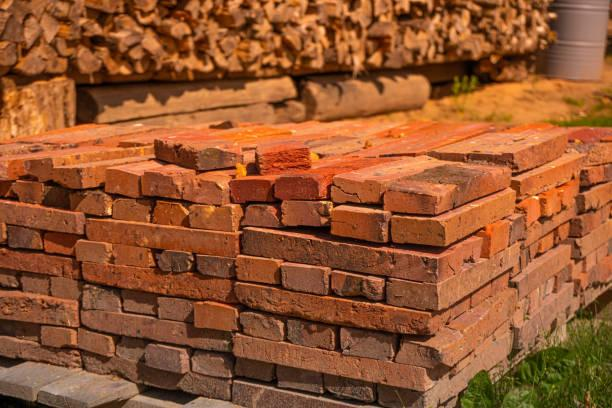Bricks: (232, 278, 468, 340), (239, 228, 484, 281), (236, 333, 428, 391), (401, 285, 522, 367), (387, 242, 512, 307), (385, 186, 519, 246), (75, 307, 227, 354), (86, 351, 229, 400), (85, 257, 230, 303), (86, 218, 243, 258), (432, 329, 511, 407), (387, 167, 511, 214), (513, 285, 583, 351), (387, 159, 501, 199), (372, 115, 479, 156), (237, 381, 381, 407), (513, 155, 587, 201), (283, 154, 399, 183), (518, 237, 574, 297), (339, 153, 446, 182), (473, 126, 565, 157), (48, 149, 160, 173), (508, 130, 567, 175), (0, 288, 69, 326), (1, 334, 69, 366), (527, 202, 578, 243), (332, 205, 384, 244), (434, 127, 508, 154), (34, 158, 89, 190), (466, 271, 515, 306), (257, 147, 312, 173), (577, 214, 611, 255), (278, 267, 330, 293), (279, 200, 331, 225), (335, 180, 381, 206), (575, 178, 611, 211), (8, 178, 54, 203), (151, 136, 189, 166), (240, 202, 281, 229), (275, 177, 323, 199), (190, 205, 234, 229), (237, 256, 277, 282), (337, 274, 380, 298), (232, 178, 273, 203), (339, 334, 392, 353), (109, 196, 152, 219), (102, 172, 140, 198), (485, 215, 511, 253), (146, 168, 181, 196), (184, 182, 226, 205), (192, 150, 241, 169), (242, 311, 280, 334), (197, 305, 233, 329), (291, 323, 330, 344), (196, 253, 230, 276), (510, 204, 529, 244), (329, 375, 365, 396), (147, 348, 181, 370), (122, 295, 156, 316), (76, 188, 109, 209), (280, 373, 320, 390), (119, 243, 148, 266), (155, 201, 181, 226), (78, 240, 112, 259), (80, 328, 107, 351), (524, 197, 544, 228), (579, 207, 603, 232), (544, 188, 566, 215), (41, 325, 70, 345), (236, 363, 270, 380), (47, 235, 75, 255), (163, 299, 191, 319), (89, 288, 117, 308), (161, 251, 190, 270), (196, 357, 229, 373), (578, 251, 599, 274), (0, 163, 26, 181), (561, 179, 576, 208), (11, 228, 34, 246), (119, 340, 141, 358), (555, 263, 569, 289), (385, 394, 409, 404), (546, 280, 556, 300), (532, 286, 543, 304)
